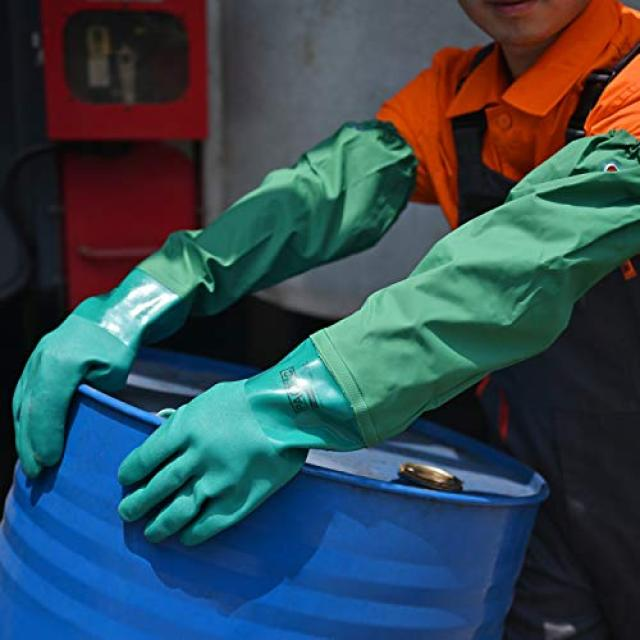gloves: (119, 333, 365, 541), (10, 264, 204, 480)
